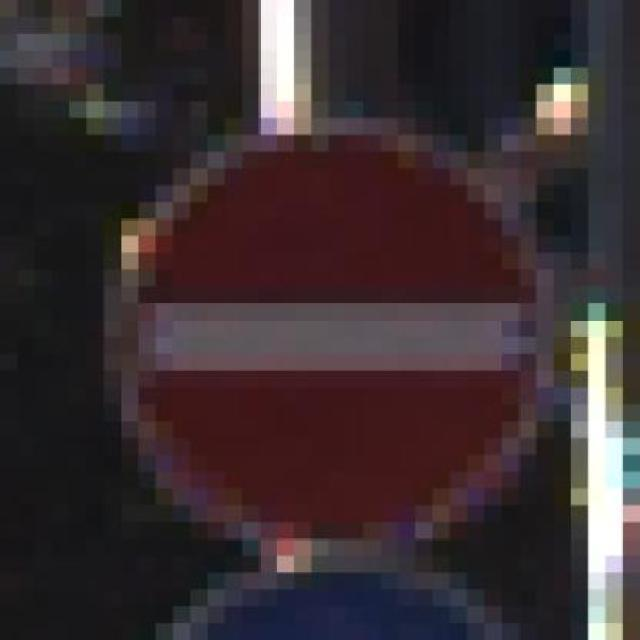B2: (122, 126, 536, 548)
